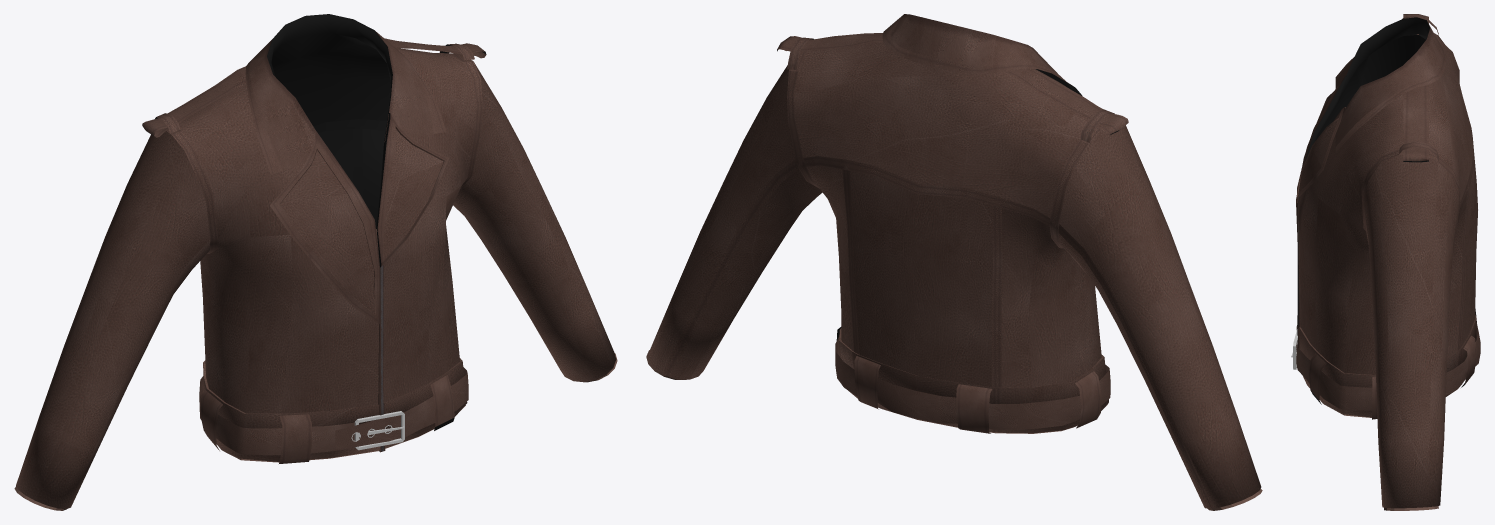
Rendered from Jacket.glb.
3 renders of one model, left to right at view 1: azimuth 30°, elevation 25°; view 2: azimuth 150°, elevation 25°; view 3: azimuth 270°, elevation 25°, orthographic. The views are drawn at different scales.
Parts seen in each view (by area): view 1: Jacket, JacketInternal, Belt; view 2: Jacket, Belt; view 3: Jacket, JacketInternal, Belt.
Part boxes in pixels (x1,y1,x2,y2): Jacket: [14, 30, 617, 510]; JacketInternal: [146, 14, 486, 451]; Belt: [199, 367, 468, 455]; Jacket: [646, 14, 1262, 510]; Belt: [835, 337, 1110, 429]; Jacket: [1296, 14, 1477, 510]; JacketInternal: [1297, 17, 1476, 404]; Belt: [1291, 323, 1480, 410].
Bounding box in the file's own units: 10.32 × 6.93 × 3.21.
5 materials, 3 textured.
